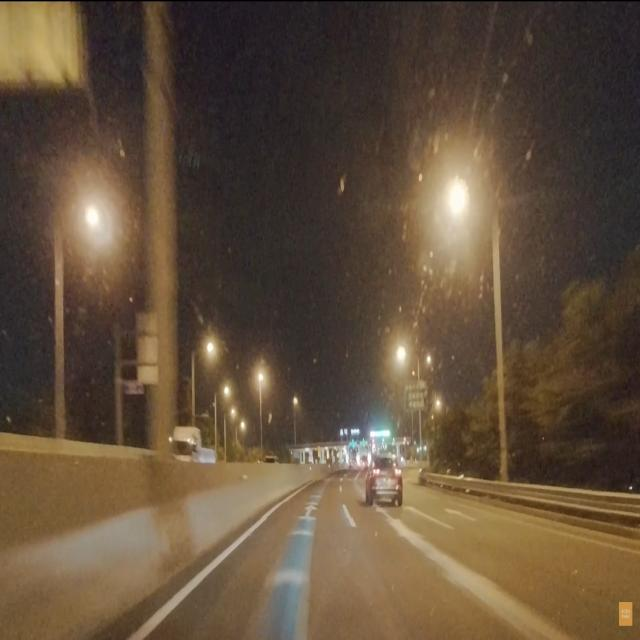forward: (259, 502, 352, 518)
